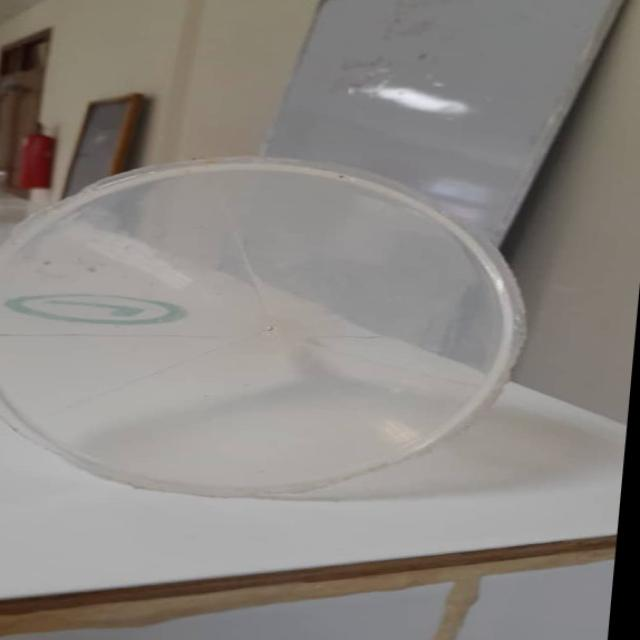Funnel: (0, 152, 554, 497)
